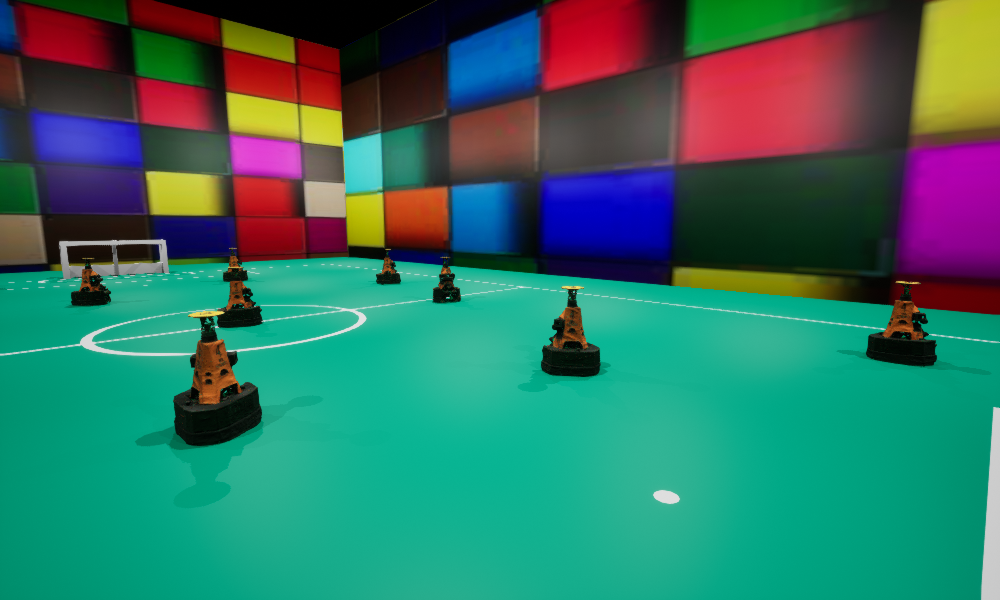0 orange robot TechUnited: (173, 311, 261, 445), (866, 281, 936, 365), (541, 286, 600, 376), (217, 267, 262, 327), (71, 258, 110, 305), (433, 257, 460, 302), (376, 249, 400, 284), (223, 248, 247, 281)
